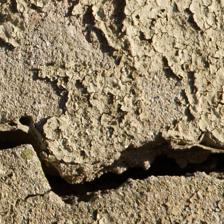Crack: (2, 58, 219, 150)
